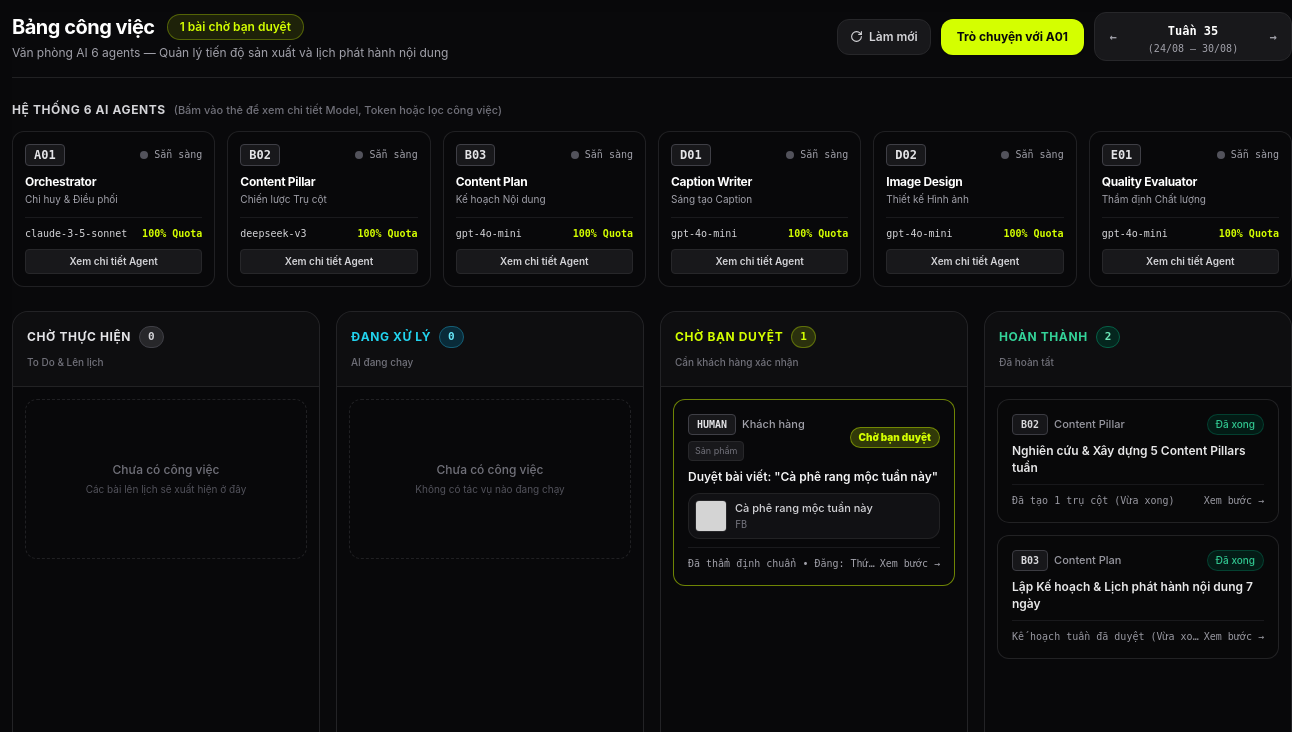
Scenario: KanbanBoard Week Navigation & Refresh Tests › filters tasks dynamically according to selected week and shows/hides "Tuần này" button
This screenshot has width=1292, height=732.
Expected: the text "Duyệt bài viết: \"Cà phê rang mộc tuần này\"" is shown, [688,468,940,485]
Expected: the text "Đặc sản tuần khác" is not shown
// Navigate to next week
Step 1. Click the button titled "Tuần sau" → point(1273, 36), box [1259,22,1287,50]
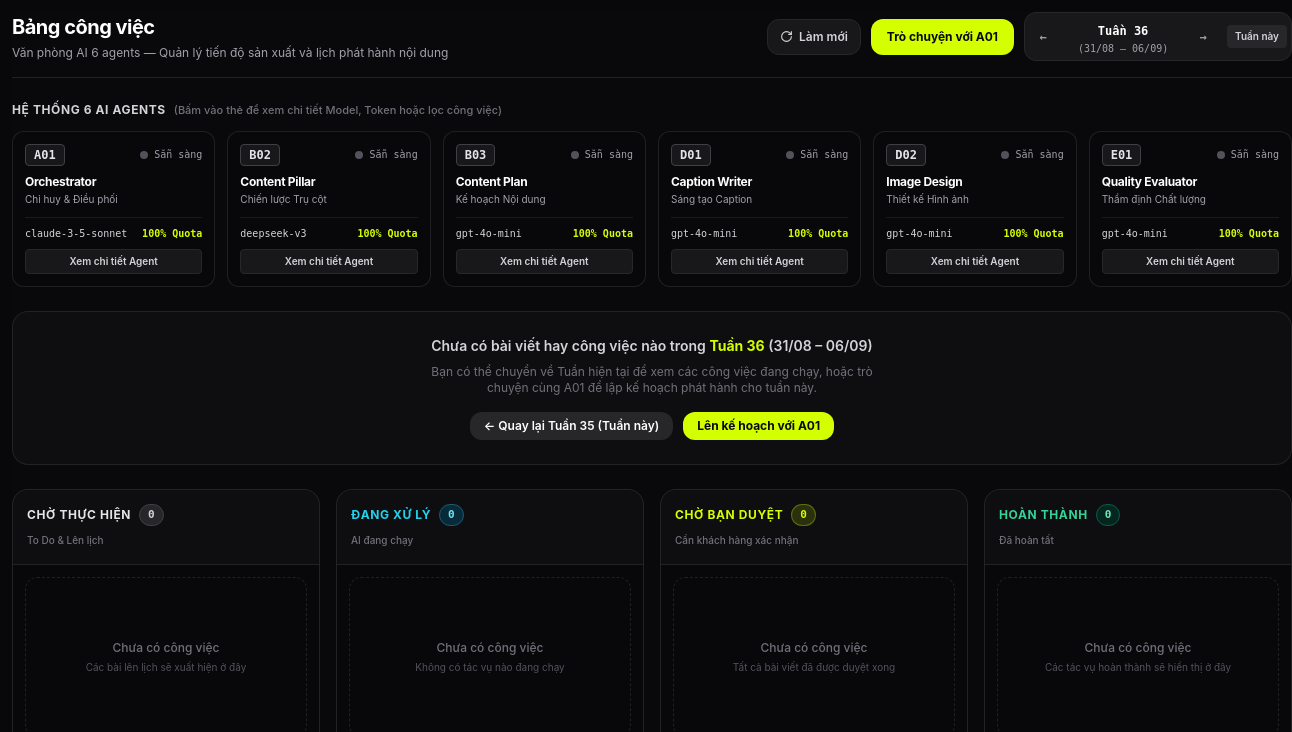
Expected: the button "Tuần này" is shown, [1227,25,1287,48]
Expected: the text "Chưa có bài viết hay công việc nào trong" is shown, [431,336,709,354]
// Navigate one more week to (currentWeek + 2)
Step 2. Click the button titled "Tuần sau" → point(1203, 36), box [1189,22,1217,50]
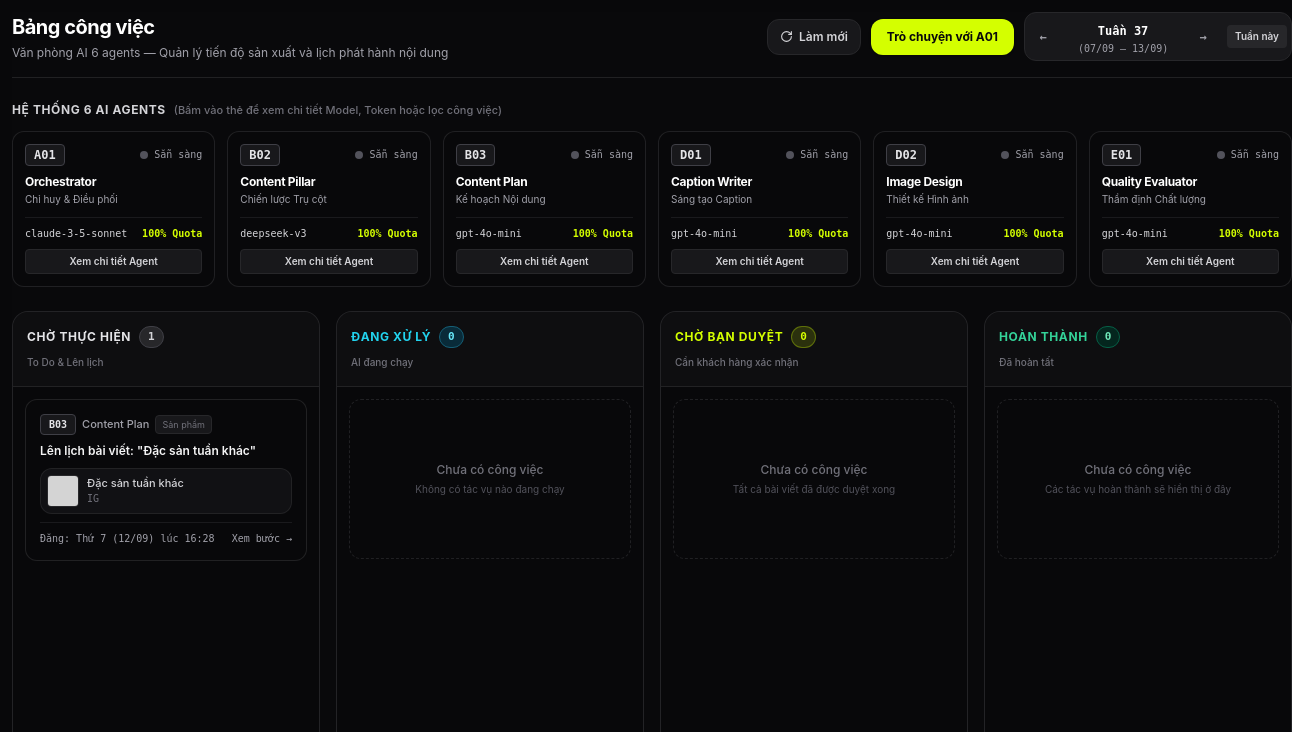
Expected: the text "Lên lịch bài viết: \"Đặc sản tuần khác\"" is shown, [40,443,292,460]
// Click "Tuần này" to return to current week
Step 3. Click the button "Tuần này" → point(1257, 36), box [1227,25,1287,48]
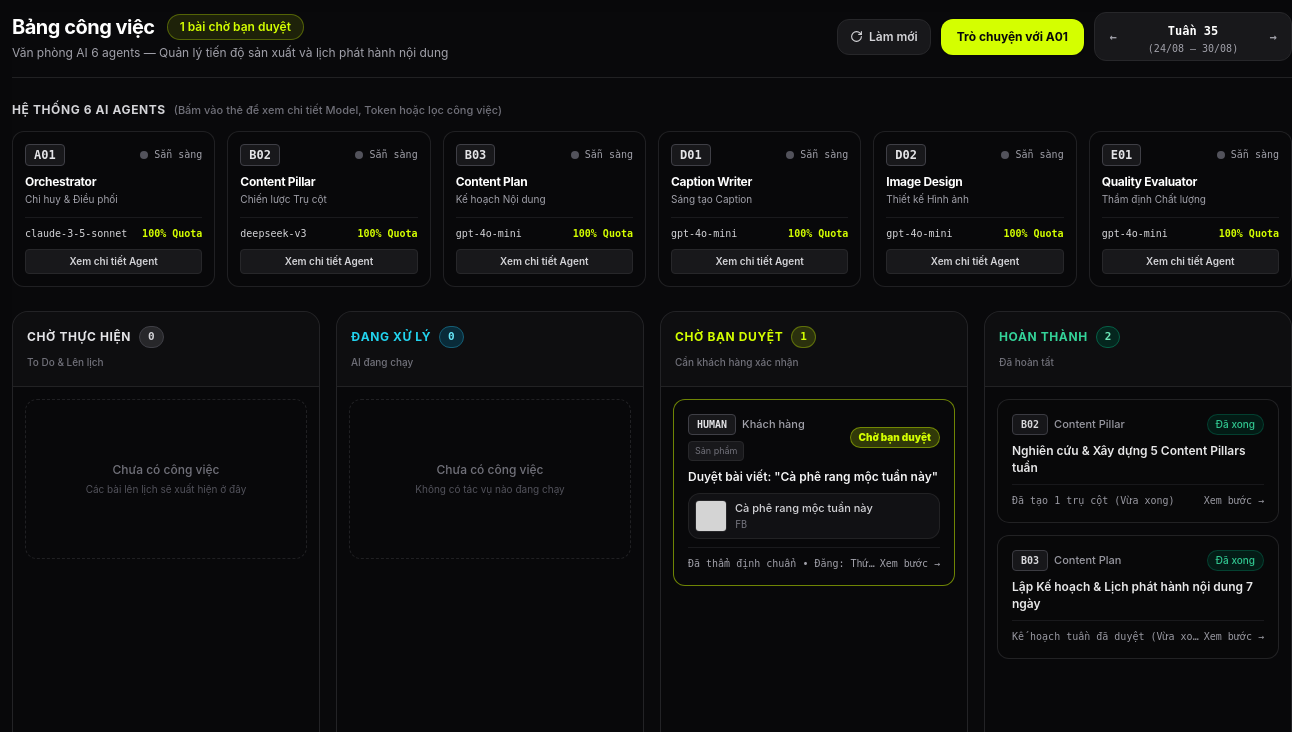
Expected: the text "Duyệt bài viết: \"Cà phê rang mộc tuần này\"" is shown, [688,468,940,485]
